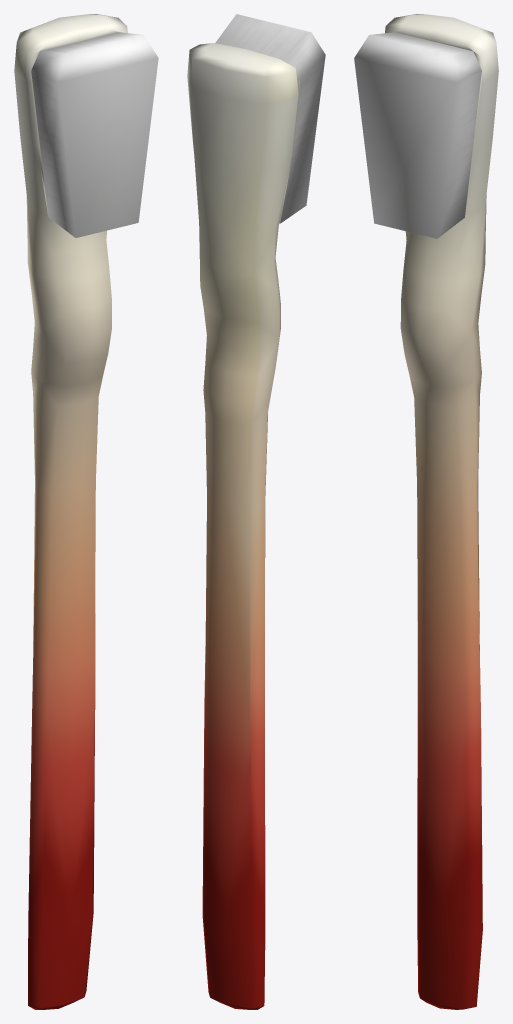
File: Brush01.fbx
3 renders of one model, left to right at view 1: azimuth 30°, elevation 25°; view 2: azimuth 150°, elevation 25°; view 3: azimuth 330°, elevation 25°, orthographic. The views are drawn at different scales.
Parts seen in each view (by area): view 1: MOD_Brush01; view 2: MOD_Brush01; view 3: MOD_Brush01.
Boxes of the visible parts, <box> form: MOD_Brush01: <box>14,14,158,1009</box>; MOD_Brush01: <box>187,14,325,1009</box>; MOD_Brush01: <box>354,14,498,1009</box>.
Size of the model in its own units: 3.96 by 35.32 by 3.61.
